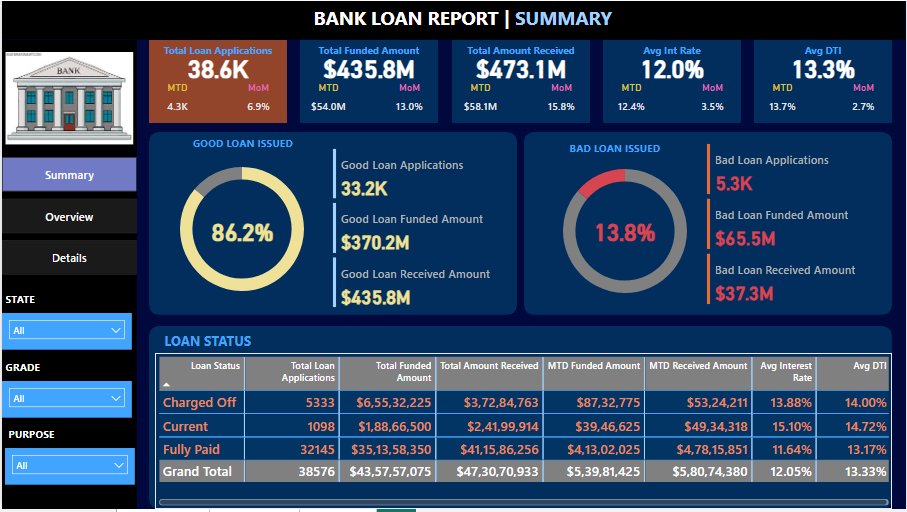

This screenshot's page, from the dashboard's own definition file:
{"tool":"powerbi","page":{"name":"Summary","canvas":[1280,720],"ordinal":0},"visuals":[{"type":"shape","box":[0,0,1280,55],"z":0},{"type":"shape","box":[0,55.3,191.3,664.7],"z":1000},{"type":"textbox","box":[436.5,0,450.7,55.3],"z":2000},{"type":"group","id":"g1","title":"Group 1","box":[208.3,55.3,195.6,117.6],"z":3000},{"type":"shape","box":[208.3,55.3,195.6,117.6],"z":3000,"group":"g1"},{"type":"shape","box":[422.7,55.3,195.6,117.6],"z":3000,"group":"g2"},{"type":"shape","box":[637.1,55.3,195.6,117.6],"z":3000,"group":"g3"},{"type":"shape","box":[851.5,55.3,195.6,117.6],"z":3000,"group":"g4"},{"type":"shape","box":[1065.8,55.3,195.6,117.6],"z":3000,"group":"g5"},{"type":"card","fields":{"Values":["Measure Table.Total Loan Applications"]},"box":[208.3,73.7,195.6,41.1],"z":4000,"group":"g1"},{"type":"card","fields":{"Values":["Measure Table.Total Funded Amount"]},"box":[422.7,73.7,195.6,41.1],"z":4000,"group":"g2"},{"type":"card","fields":{"Values":["Measure Table.Total Amount Received"]},"box":[637.1,73.7,195.6,41.1],"z":4000,"group":"g3"},{"type":"card","fields":{"Values":["Measure Table.Avg Interest Rate"]},"box":[851.5,73.7,195.6,41.1],"z":4000,"group":"g4"},{"type":"card","fields":{"Values":["Measure Table.Avg DTI"]},"box":[1065.8,73.7,195.6,41.1],"z":4000,"group":"g5"},{"type":"shape","box":[208.3,185.7,521.6,259.4],"z":4000},{"type":"textbox","box":[208.3,55.3,195.6,35.4],"z":5000,"group":"g1"},{"type":"group","id":"g2","title":"Group 1","box":[422.7,55.3,195.6,117.6],"z":5000},{"type":"textbox","box":[422.7,55.3,195.6,35.4],"z":5000,"group":"g2"},{"type":"textbox","box":[637.1,55.3,195.6,35.4],"z":5000,"group":"g3"},{"type":"textbox","box":[851.5,55.3,195.6,35.4],"z":5000,"group":"g4"},{"type":"textbox","box":[1065.8,55.3,195.6,35.4],"z":5000,"group":"g5"},{"type":"card","title":"MTD","fields":{"Values":["Measure Table.MTD Loan Applications"]},"box":[208.3,114.8,80.8,58.1],"z":6000,"group":"g1"},{"type":"card","title":"MTD","fields":{"Values":["Measure Table.MTD Funded Amount"]},"box":[422.7,114.8,80.8,58.1],"z":6000,"group":"g2"},{"type":"card","title":"MTD","fields":{"Values":["Measure Table.MTD Received Amount"]},"box":[637.1,114.8,80.8,58.1],"z":6000,"group":"g3"},{"type":"card","title":"MTD","fields":{"Values":["Measure Table.MTD Avg Int Rate"]},"box":[851.5,114.8,80.8,58.1],"z":6000,"group":"g4"},{"type":"card","title":"MTD","fields":{"Values":["Measure Table.MTD Avg DTI"]},"box":[1065.8,114.8,80.8,58.1],"z":6000,"group":"g5"},{"type":"textbox","box":[243.8,185.7,195.6,35.4],"z":6000},{"type":"group","id":"g3","title":"Group 1","box":[637.1,55.3,195.6,117.6],"z":7000},{"type":"card","title":"MoM","fields":{"Values":["Measure Table.MoM Loan Applications"]},"box":[323.1,114.8,80.8,58.1],"z":7000,"group":"g1"},{"type":"card","title":"MoM","fields":{"Values":["Measure Table.MoM Funded Amount"]},"box":[537.5,114.8,80.8,58.1],"z":7000,"group":"g2"},{"type":"card","title":"MoM","fields":{"Values":["Measure Table.MoM Received Amount"]},"box":[751.9,114.8,80.8,58.1],"z":7000,"group":"g3"},{"type":"card","title":"MoM","fields":{"Values":["Measure Table.MoM Avg Int Rate"]},"box":[966.3,114.8,80.8,58.1],"z":7000,"group":"g4"},{"type":"card","title":"MoM","fields":{"Values":["Measure Table.MoM Avg DTI"]},"box":[1180.6,114.8,80.8,58.1],"z":7000,"group":"g5"},{"type":"group","id":"g4","title":"Group 1","box":[851.5,55.3,195.6,117.6],"z":8000},{"type":"group","id":"g5","title":"Group 1","box":[1065.8,55.3,195.6,117.6],"z":9000},{"type":"card","fields":{"Values":["Measure Table.Good Loan %"]},"box":[276.4,304.7,129,41.1],"z":10000},{"type":"shape","box":[739.8,185.7,521.6,259.4],"z":11000},{"type":"donutChart","fields":{"Category":["financial_loan.Good Vs Bad Loan"],"Y":["Measure Table.Total Loan Applications"]},"box":[216.9,208.3,246.6,229.6],"z":12000},{"type":"cardVisual","fields":{"Data":["Measure Table.Good Loan Applications","Measure Table.Good Loan Funded Amount","Measure Table.Good Loan Received Amount"]},"box":[463.4,204.5,267.4,237.4],"z":13000},{"type":"donutChart","fields":{"Category":["financial_loan.Good Vs Bad Loan"],"Y":["Measure Table.Total Loan Applications"]},"box":[759.7,211.2,246.6,229.6],"z":14000},{"type":"textbox","box":[771,192.8,195.6,35.4],"z":15000},{"type":"card","fields":{"Values":["Measure Table.Good Loan %"]},"box":[817.8,304.7,129,41.1],"z":16000},{"type":"cardVisual","fields":{"Data":["Measure Table.Bad Loan Applications","Measure Table.Bad Loan Funded Amount","Measure Table.Bad Loan Received Amount"]},"box":[993.5,197,267.9,238.1],"z":17000},{"type":"shape","box":[208.3,460.6,1053.1,259.4],"z":18000},{"type":"tableEx","fields":{"Values":["financial_loan.loan_status","Measure Table.Total Loan Applications","Measure Table.Total Funded Amount","Measure Table.Total Amount Received","Measure Table.MTD Funded Amount","Measure Table.MTD Received Amount","Measure Table.Avg Interest Rate","Measure Table.Avg DTI"]},"box":[216.9,498.9,1044.6,221.1],"z":19000},{"type":"textbox","box":[225.4,463.5,195.6,35.4],"z":20000},{"type":"slicer","fields":{"Values":["financial_loan.address_state"]},"box":[0,442.2,184.3,52.4],"z":21000},{"type":"textbox","box":[0,406.8,92.1,35.4],"z":22000},{"type":"slicer","fields":{"Values":["financial_loan.grade"]},"box":[0,538.6,184.3,52.4],"z":23000},{"type":"textbox","box":[0,503.1,92.1,35.4],"z":24000},{"type":"textbox","box":[4.3,598.1,92.1,35.4],"z":25000},{"type":"slicer","fields":{"Values":["financial_loan.purpose"]},"box":[4.3,633.5,184.3,52.4],"z":26000},{"type":"image","box":[0,55.3,191.3,165.8],"z":27000},{"type":"pageNavigator","box":[0,221.1,191.3,167.2],"z":28000}]}

Visuals, with their boxes in screenshot pixels (x1, y1, x2, y2), scaled from the page's 1280x720 canvas onto the 907x512 screenshot:
shape: [x1=0, y1=0, x2=906, y2=39]
shape: [x1=0, y1=39, x2=136, y2=511]
textbox: [x1=309, y1=0, x2=629, y2=39]
"Group 1" group: [x1=148, y1=39, x2=286, y2=123]
shape: [x1=148, y1=39, x2=286, y2=123]
shape: [x1=300, y1=39, x2=438, y2=123]
shape: [x1=451, y1=39, x2=590, y2=123]
shape: [x1=603, y1=39, x2=742, y2=123]
shape: [x1=755, y1=39, x2=894, y2=123]
card - Measure Table.Total Loan Applications: [x1=148, y1=52, x2=286, y2=82]
card - Measure Table.Total Funded Amount: [x1=300, y1=52, x2=438, y2=82]
card - Measure Table.Total Amount Received: [x1=451, y1=52, x2=590, y2=82]
card - Measure Table.Avg Interest Rate: [x1=603, y1=52, x2=742, y2=82]
card - Measure Table.Avg DTI: [x1=755, y1=52, x2=894, y2=82]
shape: [x1=148, y1=132, x2=517, y2=317]
textbox: [x1=148, y1=39, x2=286, y2=64]
"Group 1" group: [x1=300, y1=39, x2=438, y2=123]
textbox: [x1=300, y1=39, x2=438, y2=64]
textbox: [x1=451, y1=39, x2=590, y2=64]
textbox: [x1=603, y1=39, x2=742, y2=64]
textbox: [x1=755, y1=39, x2=894, y2=64]
"MTD" card: [x1=148, y1=82, x2=205, y2=123]
"MTD" card: [x1=300, y1=82, x2=357, y2=123]
"MTD" card: [x1=451, y1=82, x2=509, y2=123]
"MTD" card: [x1=603, y1=82, x2=661, y2=123]
"MTD" card: [x1=755, y1=82, x2=812, y2=123]
textbox: [x1=173, y1=132, x2=311, y2=157]
"Group 1" group: [x1=451, y1=39, x2=590, y2=123]
"MoM" card: [x1=229, y1=82, x2=286, y2=123]
"MoM" card: [x1=381, y1=82, x2=438, y2=123]
"MoM" card: [x1=533, y1=82, x2=590, y2=123]
"MoM" card: [x1=685, y1=82, x2=742, y2=123]
"MoM" card: [x1=837, y1=82, x2=894, y2=123]
"Group 1" group: [x1=603, y1=39, x2=742, y2=123]
"Group 1" group: [x1=755, y1=39, x2=894, y2=123]
card - Measure Table.Good Loan %: [x1=196, y1=217, x2=287, y2=246]
shape: [x1=524, y1=132, x2=894, y2=317]
donutChart - financial_loan.Good Vs Bad Loan x Measure Table.Total Loan Applications: [x1=154, y1=148, x2=328, y2=311]
cardVisual - Measure Table.Good Loan Applications x Measure Table.Good Loan Funded Amount: [x1=328, y1=145, x2=518, y2=314]
donutChart - financial_loan.Good Vs Bad Loan x Measure Table.Total Loan Applications: [x1=538, y1=150, x2=713, y2=313]
textbox: [x1=546, y1=137, x2=685, y2=162]
card - Measure Table.Good Loan %: [x1=579, y1=217, x2=671, y2=246]
cardVisual - Measure Table.Bad Loan Applications x Measure Table.Bad Loan Funded Amount: [x1=704, y1=140, x2=894, y2=309]
shape: [x1=148, y1=328, x2=894, y2=511]
tableEx - financial_loan.loan_status x Measure Table.Total Loan Applications: [x1=154, y1=355, x2=894, y2=511]
textbox: [x1=160, y1=330, x2=298, y2=355]
slicer - financial_loan.address_state: [x1=0, y1=314, x2=131, y2=352]
textbox: [x1=0, y1=289, x2=65, y2=314]
slicer - financial_loan.grade: [x1=0, y1=383, x2=131, y2=420]
textbox: [x1=0, y1=358, x2=65, y2=383]
textbox: [x1=3, y1=425, x2=68, y2=450]
slicer - financial_loan.purpose: [x1=3, y1=450, x2=134, y2=488]
image: [x1=0, y1=39, x2=136, y2=157]
pageNavigator: [x1=0, y1=157, x2=136, y2=276]
